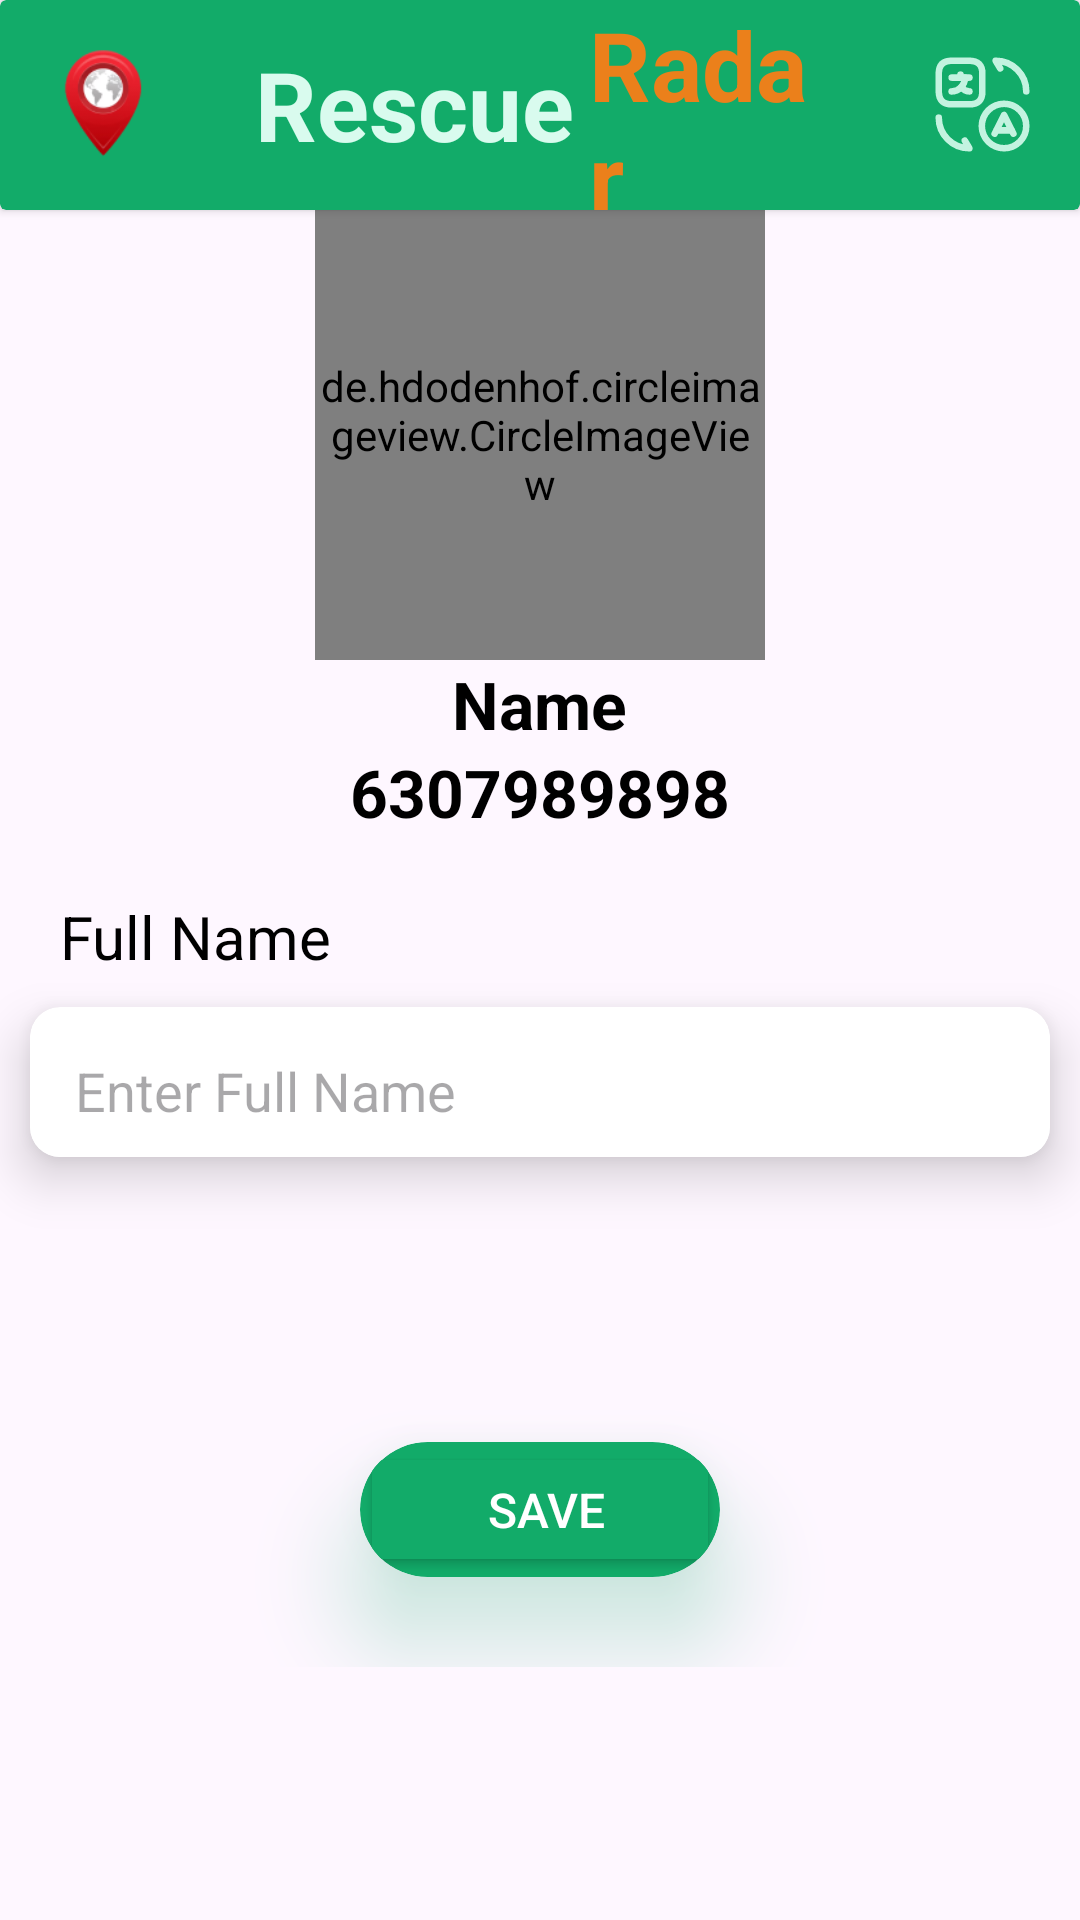

Where icons sit on this 1080px×1920px app screen, as (x1,y1,x2,y2):
locimage: (65,50,142,156)
translate: (935,57,1030,152)
